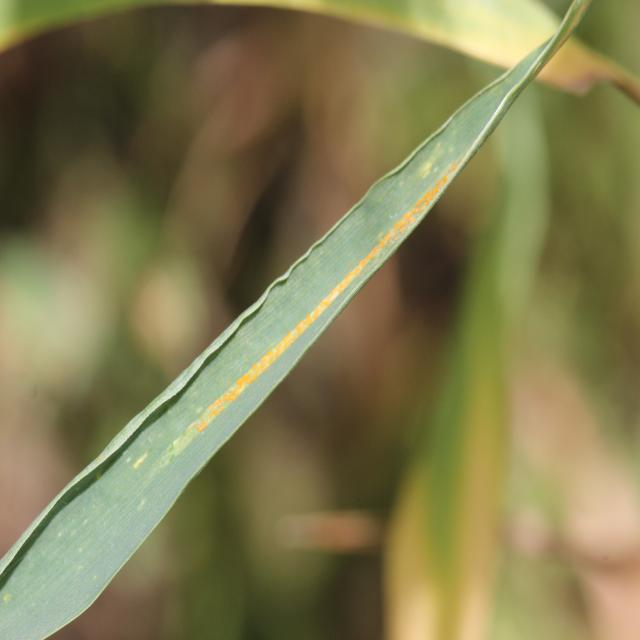leaf rust: (196, 153, 465, 447)
